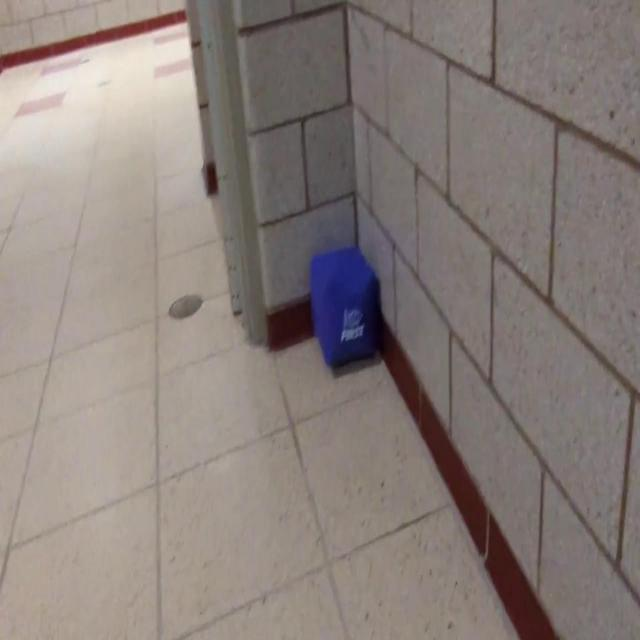frc_cube: (312, 247, 376, 370)
